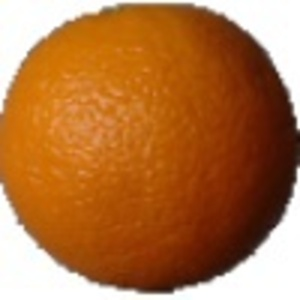laranja: (3, 2, 298, 298)
